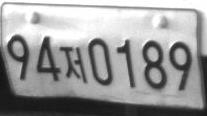0: (87, 36, 113, 87)
1: (115, 38, 140, 88)
4: (36, 35, 61, 81)
8: (141, 39, 168, 90)
9: (168, 40, 193, 91), (6, 33, 30, 80)
저: (61, 46, 87, 83)
